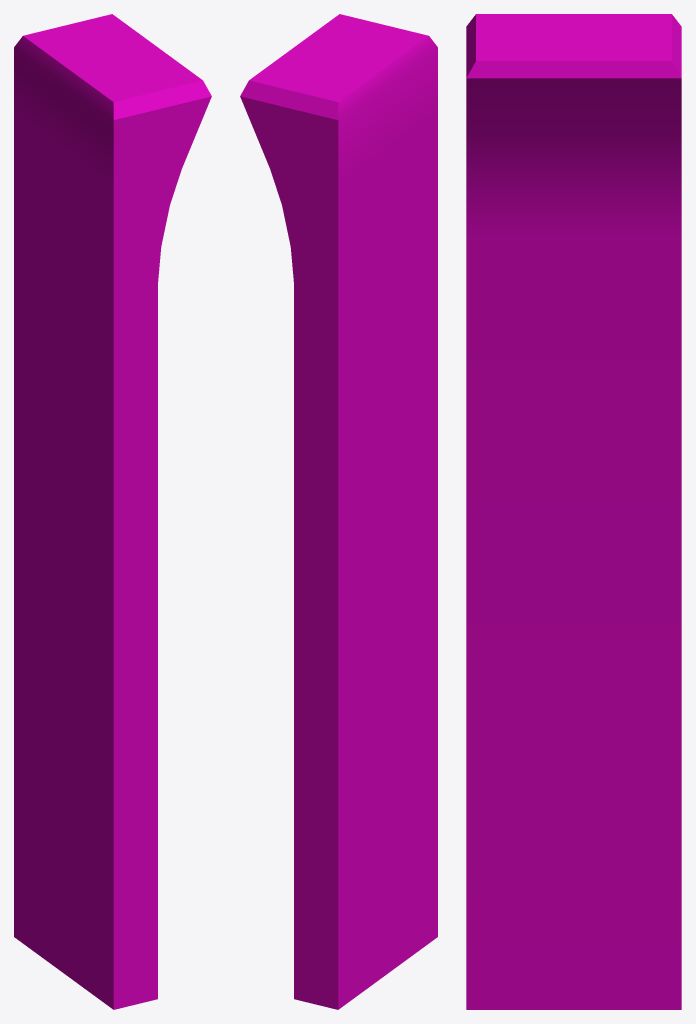
Rendered from SM_key_walls.glb.
3 renders of one model, left to right at view 1: azimuth 30°, elevation 25°; view 2: azimuth 150°, elevation 25°; view 3: azimuth 270°, elevation 25°, orthographic. The views are drawn at different scales.
Visible parts, largest first — view 1: SM_key_walls; view 2: SM_key_walls; view 3: SM_key_walls.
Part boxes in pixels (bbox=[...]): SM_key_walls: bbox=[14, 14, 211, 1009]; SM_key_walls: bbox=[240, 14, 437, 1009]; SM_key_walls: bbox=[466, 14, 681, 1009].
Size of the model in its own units: 0.5687 by 5 by 1.
